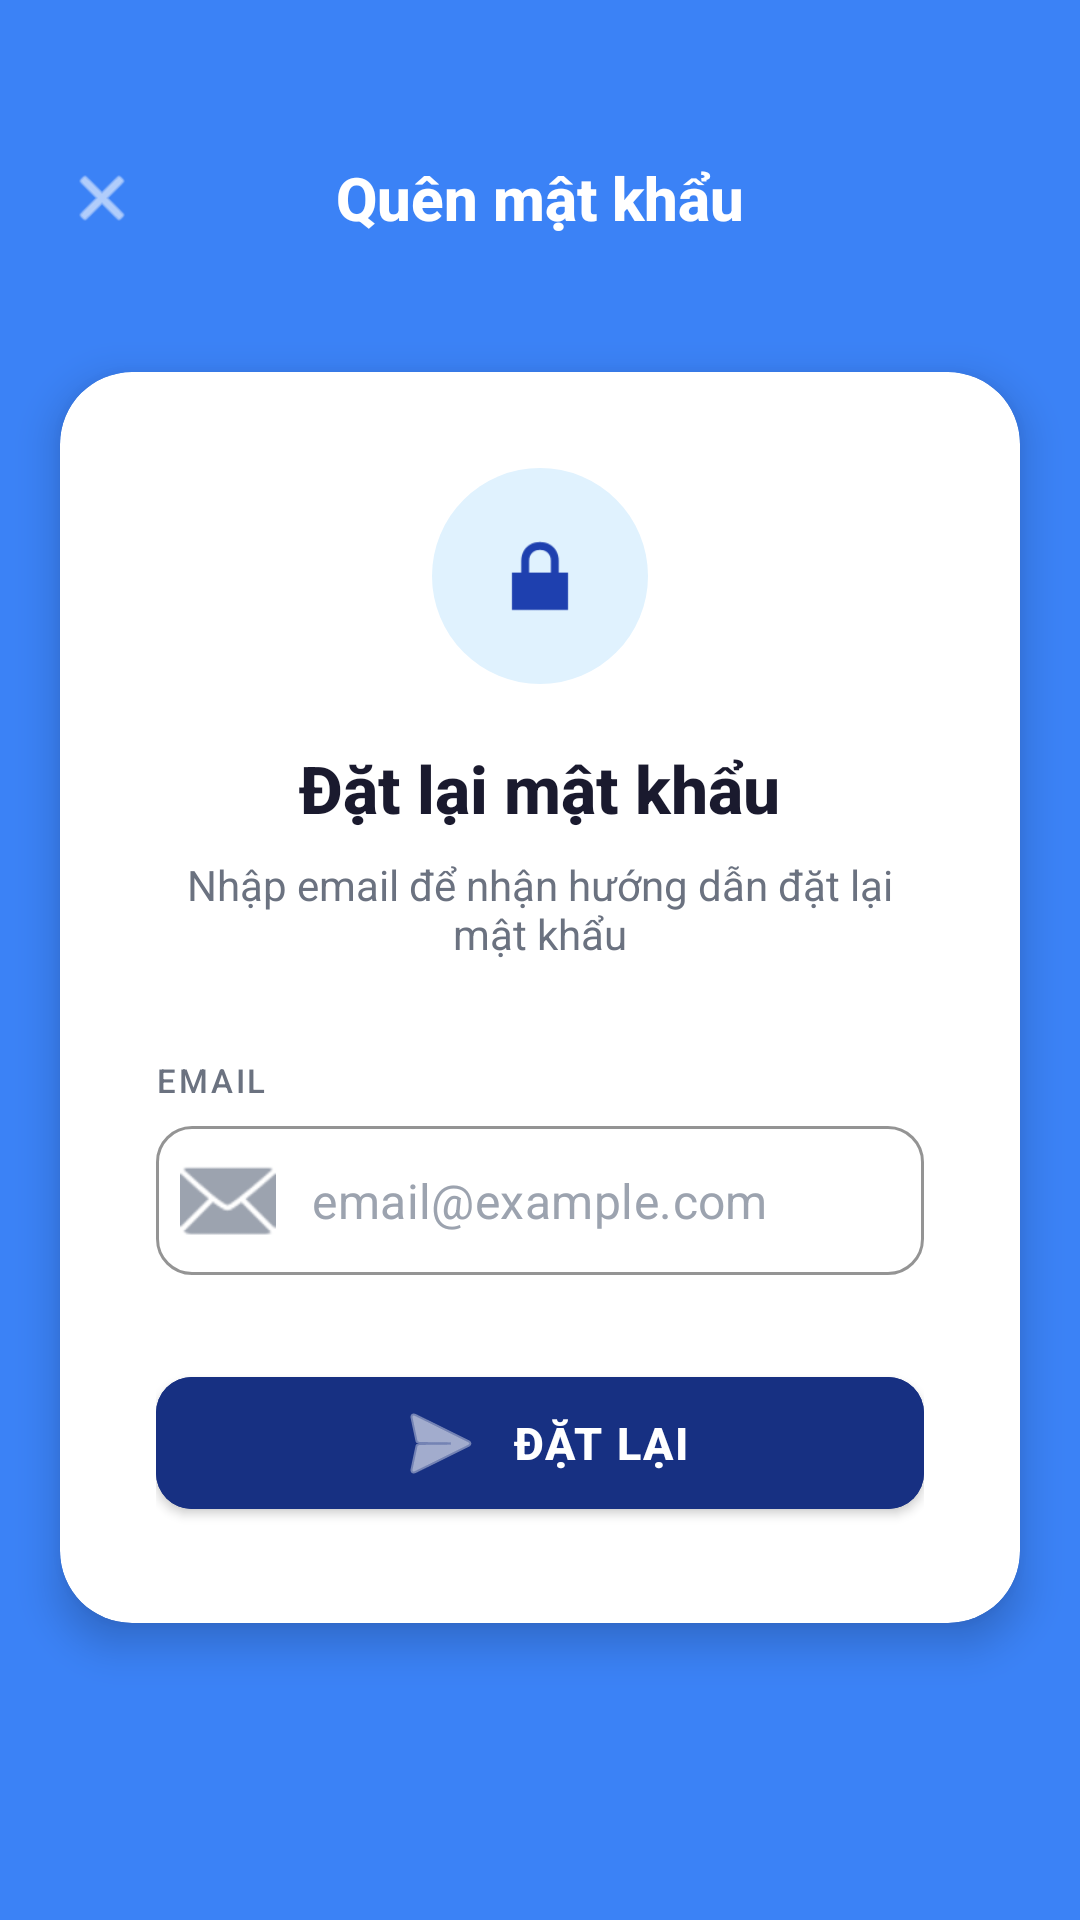

Screen size 1080 × 1920. Icon name, then its box in pixels as (x1, y1, x2, y2):
close clear cancel: (80, 176, 124, 220)
lock: (511, 541, 569, 611)
